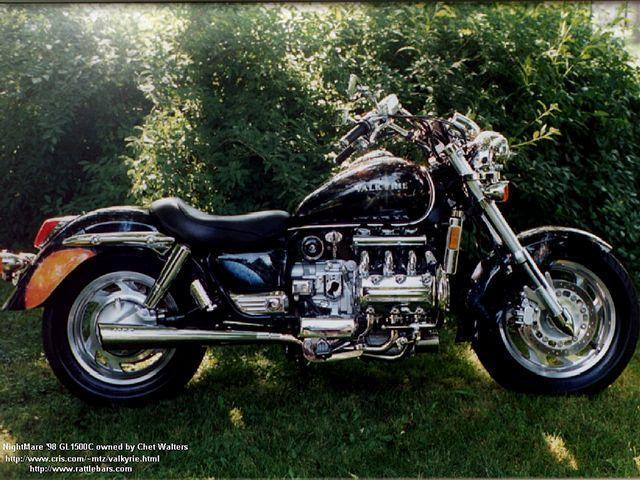motorcycle: (6, 69, 640, 424)
